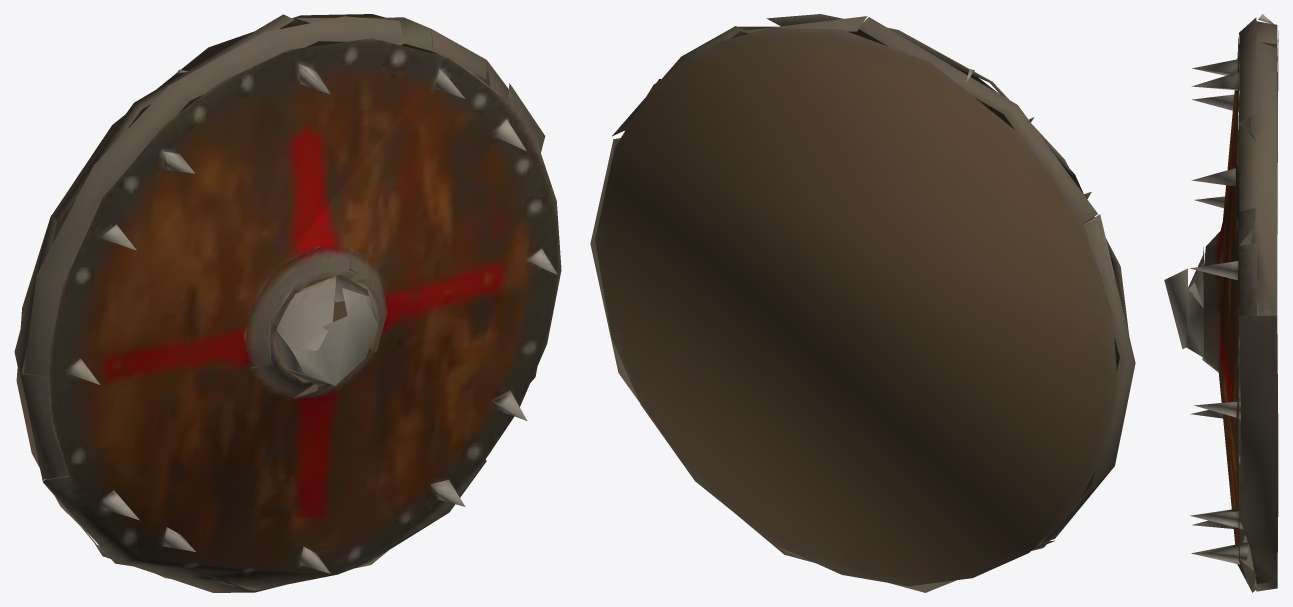
File: shield_clan_lod1.fbx
3 views of the same model, side by side, from view 1: azimuth 30°, elevation 25°; view 2: azimuth 150°, elevation 25°; view 3: azimuth 270°, elevation 25° (orthographic). The views are drawn at different scales.
Parts seen in each view (by area): view 1: tripo_node_4e57ddf0-79b3-4258-8ac8-1380fbc10fc0; view 2: tripo_node_4e57ddf0-79b3-4258-8ac8-1380fbc10fc0; view 3: tripo_node_4e57ddf0-79b3-4258-8ac8-1380fbc10fc0.
Part boxes in pixels (x1=…): tripo_node_4e57ddf0-79b3-4258-8ac8-1380fbc10fc0: x1=14, y1=14, x2=561, y2=592; tripo_node_4e57ddf0-79b3-4258-8ac8-1380fbc10fc0: x1=590, y1=14, x2=1135, y2=592; tripo_node_4e57ddf0-79b3-4258-8ac8-1380fbc10fc0: x1=1164, y1=14, x2=1278, y2=592.
Size of the model in its own units: 0.8586 by 0.8522 by 0.17.
